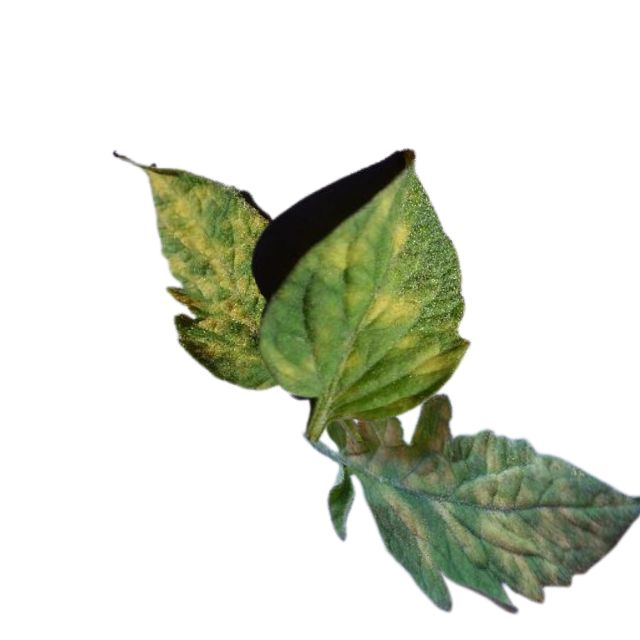Leaf_Mold: (350, 416, 640, 614), (143, 167, 261, 398), (338, 284, 422, 328), (397, 334, 470, 377), (269, 341, 318, 389), (316, 234, 368, 274), (386, 213, 413, 258)
